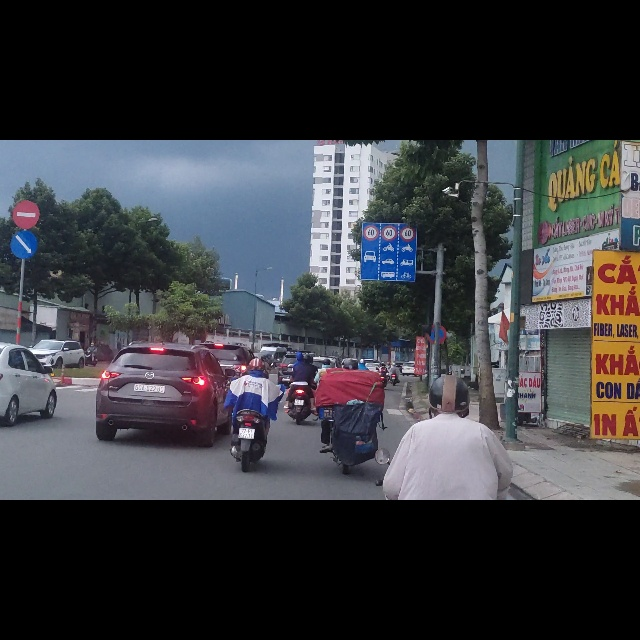bien_hieu_lenh: (361, 181, 416, 250), (10, 162, 37, 212), (13, 108, 39, 158), (382, 150, 398, 180), (401, 153, 416, 180), (364, 152, 378, 178)
